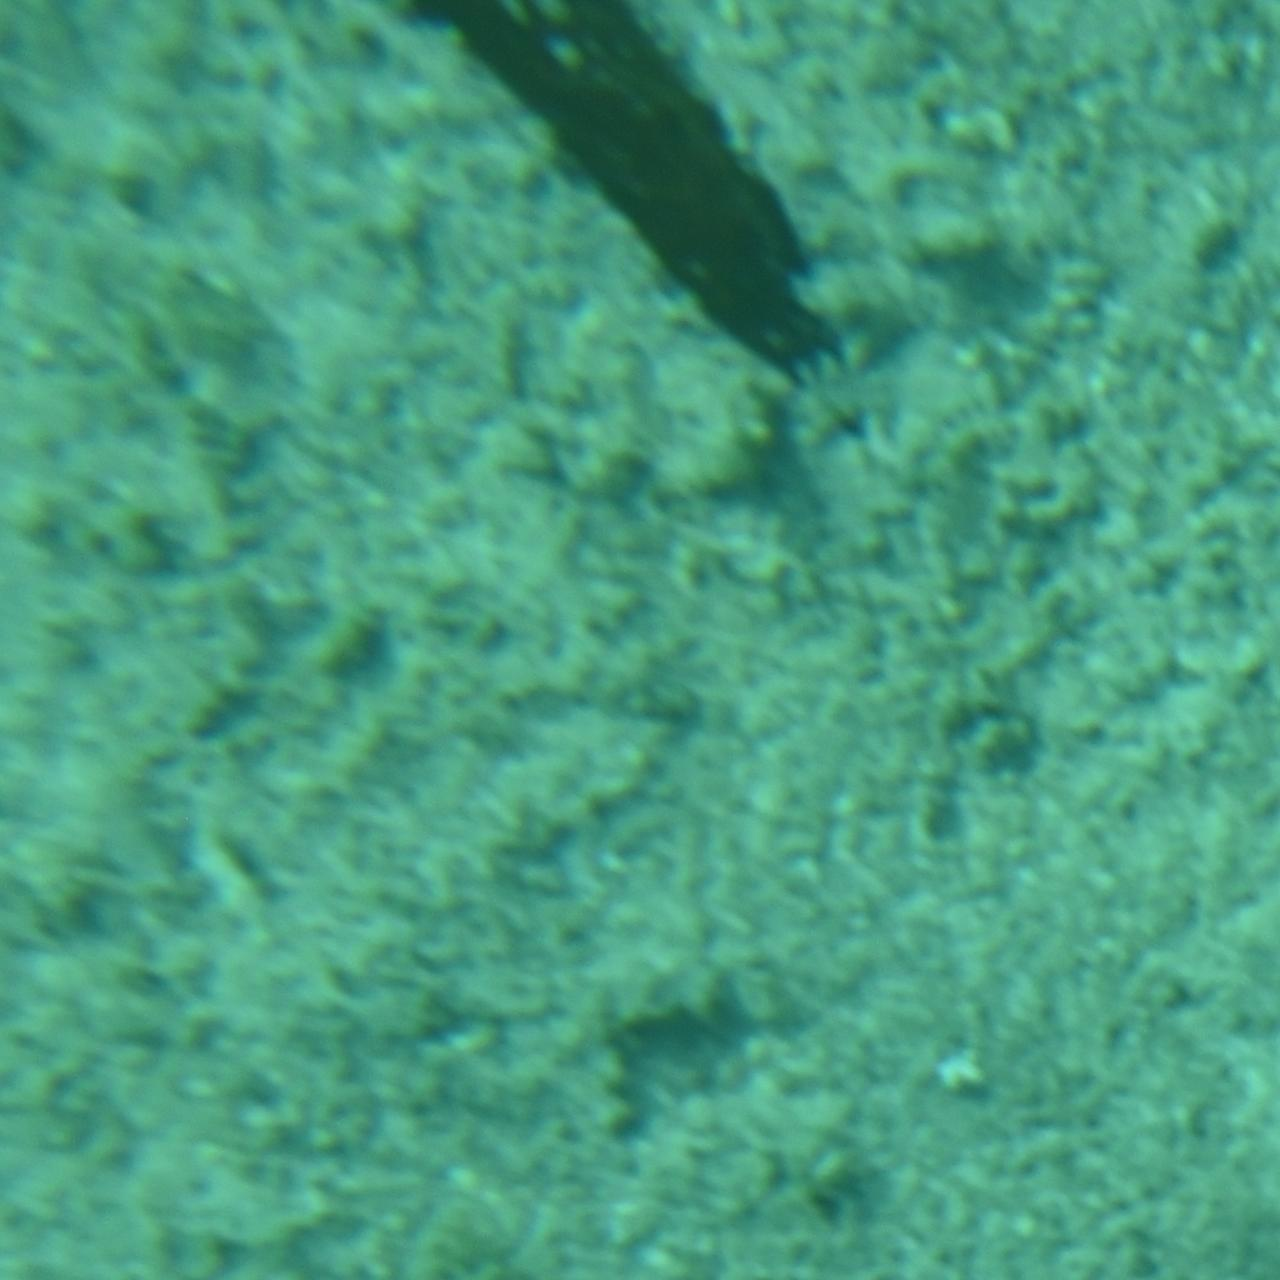Holothuria tubulosa: (411, 0, 869, 396)
